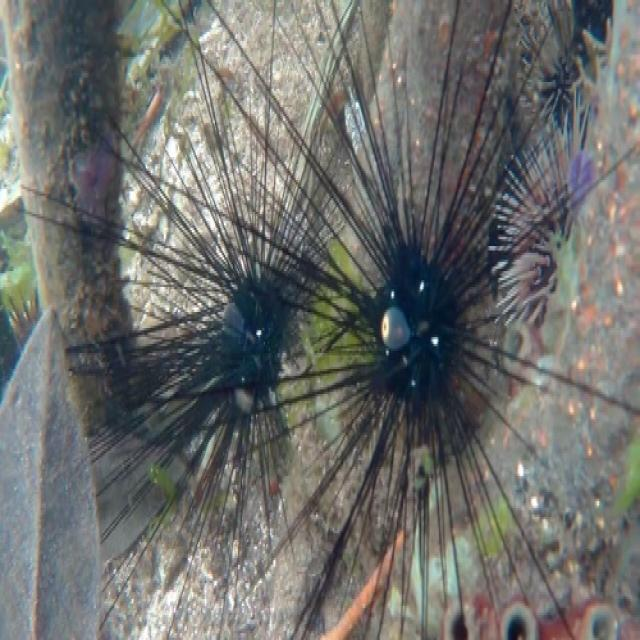Urchin: (202, 4, 618, 622), (60, 61, 334, 631)
